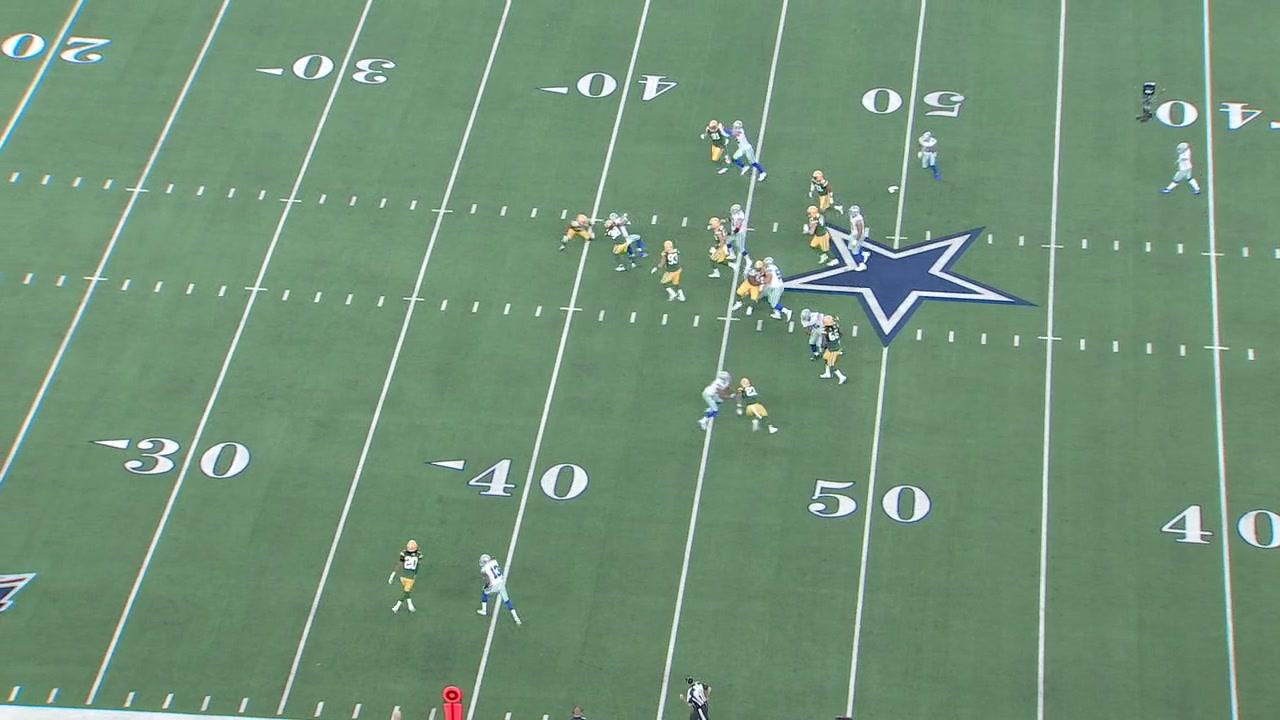defense: (734, 375, 779, 435), (390, 536, 424, 609), (649, 238, 687, 303), (804, 203, 840, 269), (705, 215, 739, 279), (731, 260, 766, 316), (818, 314, 846, 383), (603, 218, 638, 273), (807, 169, 844, 217), (557, 213, 596, 254), (703, 120, 729, 176)
oline: (759, 254, 794, 324), (720, 202, 754, 271), (846, 203, 871, 273), (799, 307, 829, 363), (750, 267, 781, 317)
qb: (1160, 141, 1203, 196)
ref: (670, 670, 721, 720)
skill: (469, 551, 526, 632), (719, 115, 768, 183), (696, 368, 740, 432), (607, 209, 649, 260), (913, 129, 945, 183)
